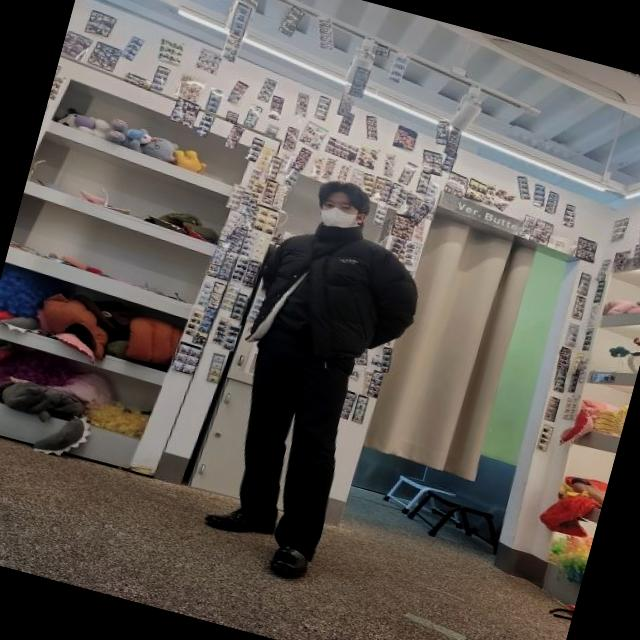denimpants: (207, 320, 371, 560)
padding: (243, 204, 433, 386)
